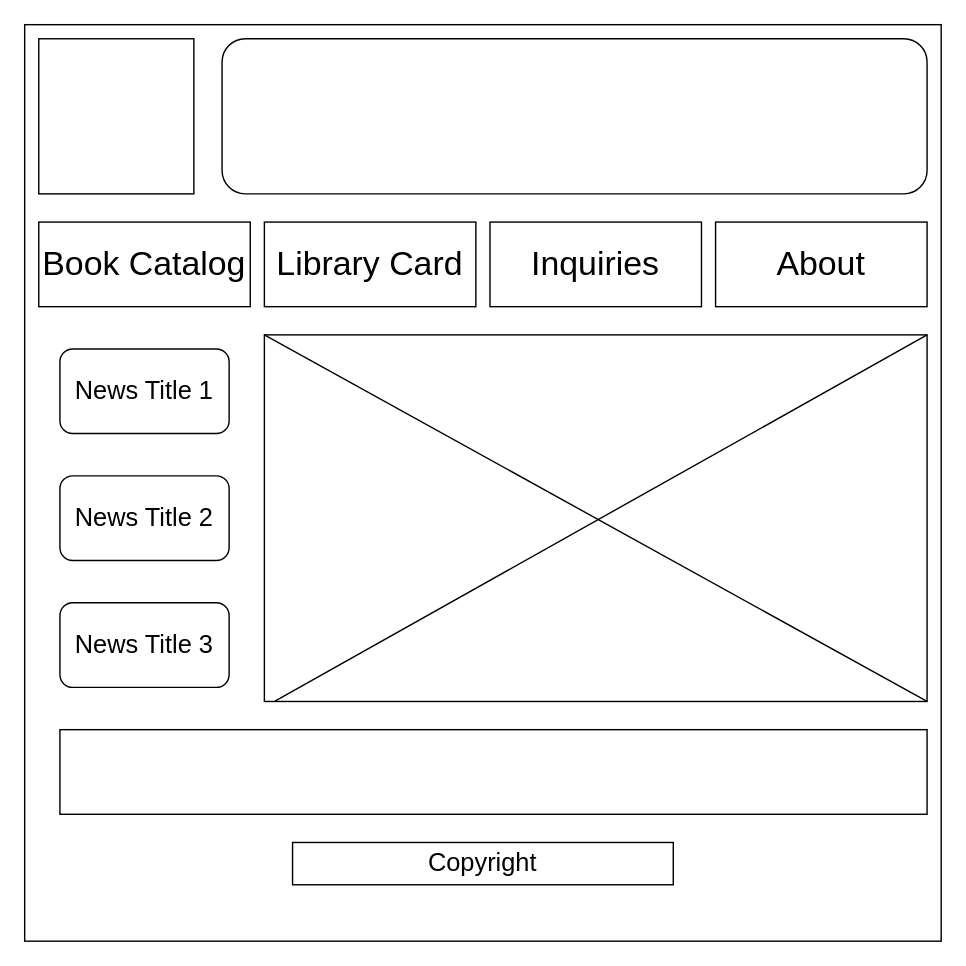
Image size: 966x966. Some labels were removed from this diagram. Each missing label, with the box of its shape:
Address： Opening Hours：: (59, 728, 927, 814)
Library's Name: (221, 37, 927, 194)
Logo: (37, 37, 194, 194)
Slideshow for Library's News Photos: (263, 333, 927, 701)
